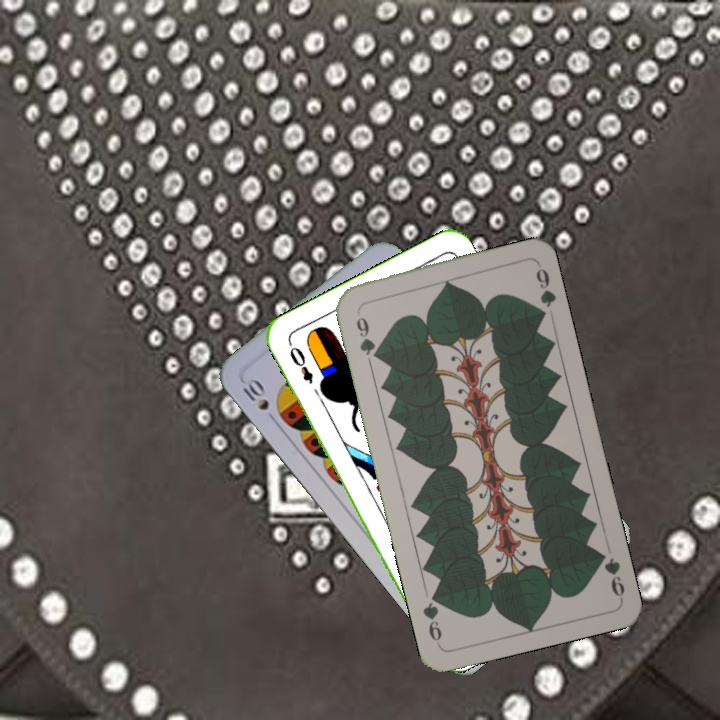EO: (284, 338, 316, 387)
G9: (593, 546, 628, 602), (352, 306, 382, 363)
S10: (238, 373, 272, 413)
